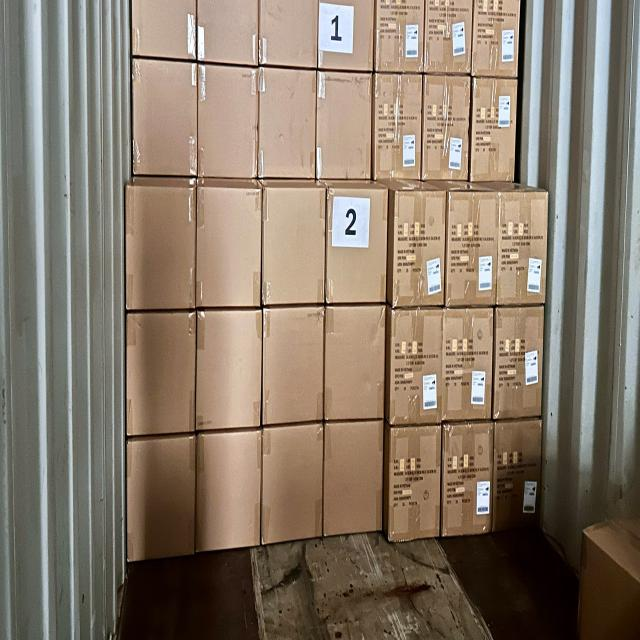Carton: (126, 182, 194, 312), (129, 310, 195, 434), (128, 439, 194, 557), (262, 186, 326, 307), (197, 186, 261, 306), (197, 309, 261, 428), (197, 434, 261, 550), (134, 58, 196, 175), (264, 306, 324, 422), (264, 429, 324, 543), (327, 186, 385, 303), (199, 65, 259, 177), (325, 424, 383, 536), (326, 308, 384, 418), (261, 68, 316, 180), (394, 191, 444, 310), (318, 70, 371, 180), (388, 428, 440, 538), (392, 310, 442, 424), (495, 424, 543, 536), (445, 308, 492, 422), (449, 192, 495, 308), (498, 193, 547, 301), (444, 425, 492, 535), (496, 306, 542, 418), (424, 75, 468, 182), (375, 75, 419, 181), (474, 80, 517, 183), (198, 0, 260, 65), (132, 0, 198, 60), (320, 1, 374, 71), (261, 2, 318, 68), (474, 1, 520, 79), (376, 1, 424, 73), (428, 1, 470, 75)
